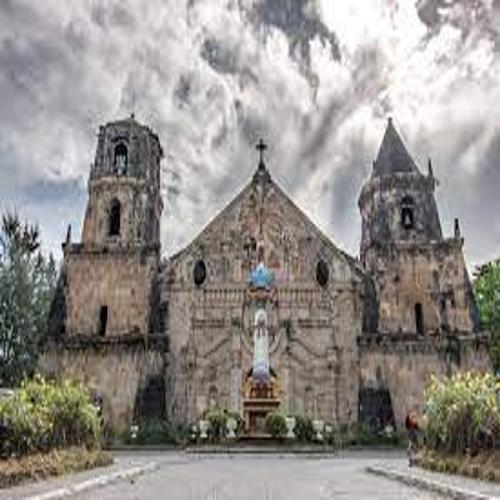Miagao Church: (43, 93, 486, 447)
